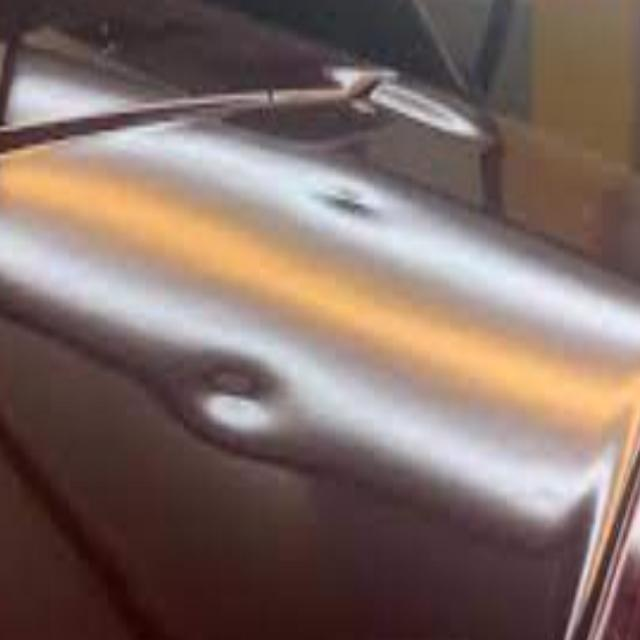dents: (190, 341, 280, 444), (313, 166, 374, 234)
